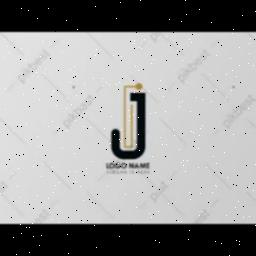j: (99, 74, 165, 168)
